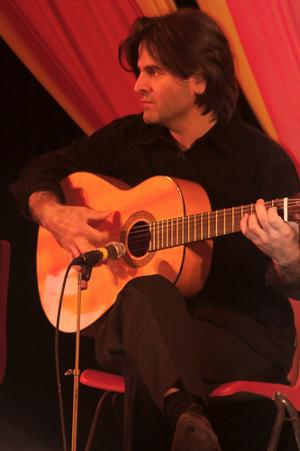person: (8, 8, 300, 450)
